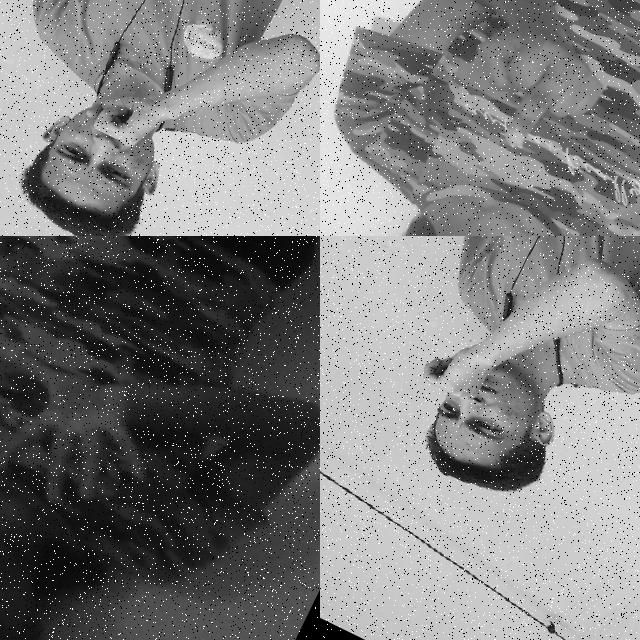Fist Mouth: (374, 304, 601, 530), (0, 48, 206, 236)
Middle Finger: (430, 0, 640, 183)
Moutza: (0, 302, 200, 544)
